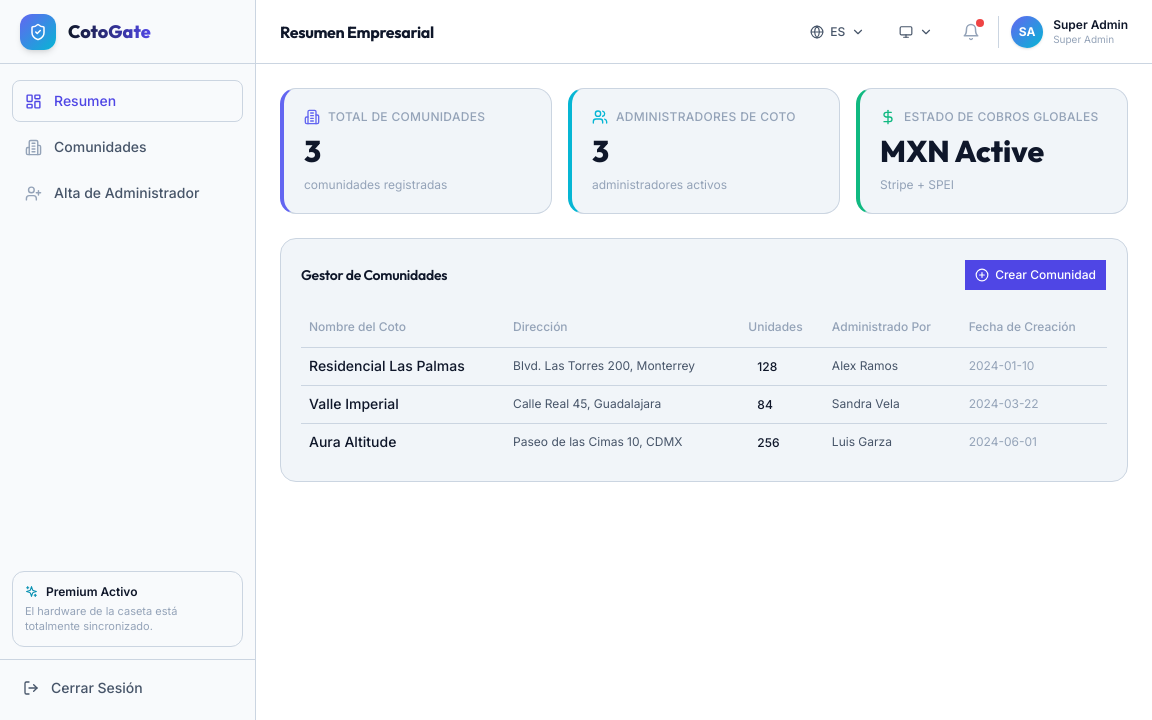
Scenario: SuperAdminDashboard › shows validation errors when submitting empty Create Community form
Expected: the heading "Resumen Empresarial" is shown, [280,20,434,44]
Click the button with id "nav-communities". click: coordinates (128, 147)
box: [12,126,243,168]
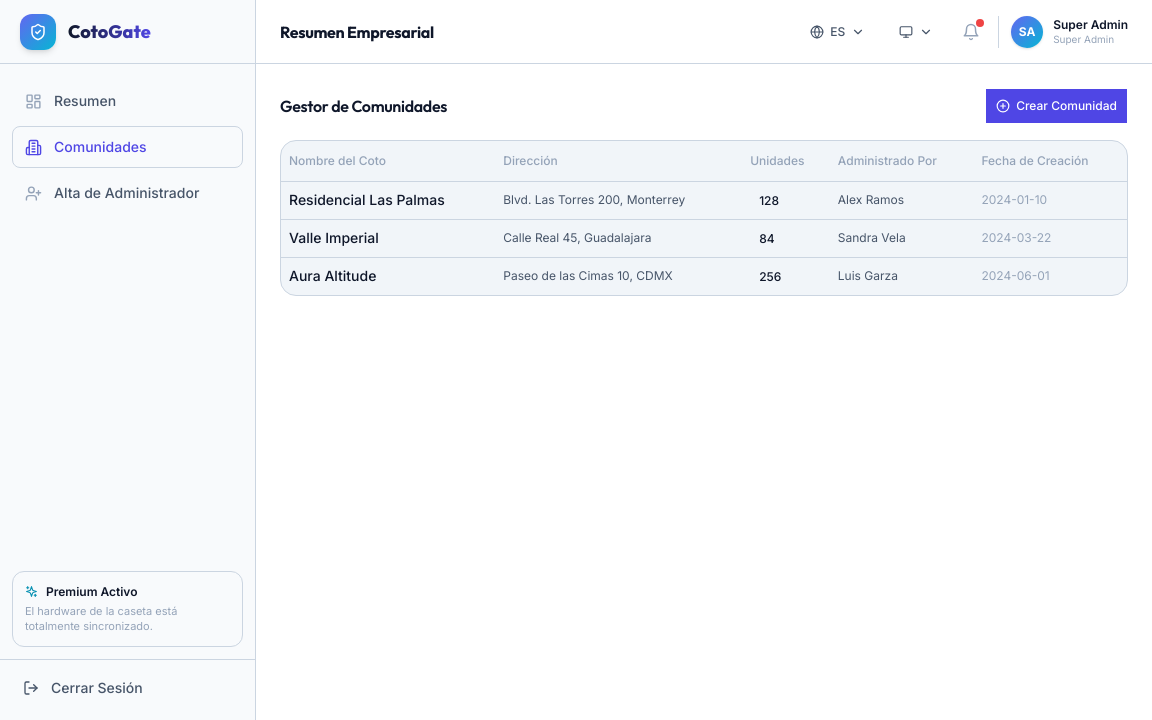
Expected: the text "Residencial Las Palmas" is shown, [281,181,495,219]
Click the button with id "btn-create-community". click: coordinates (1057, 106)
box: [985,88,1128,124]
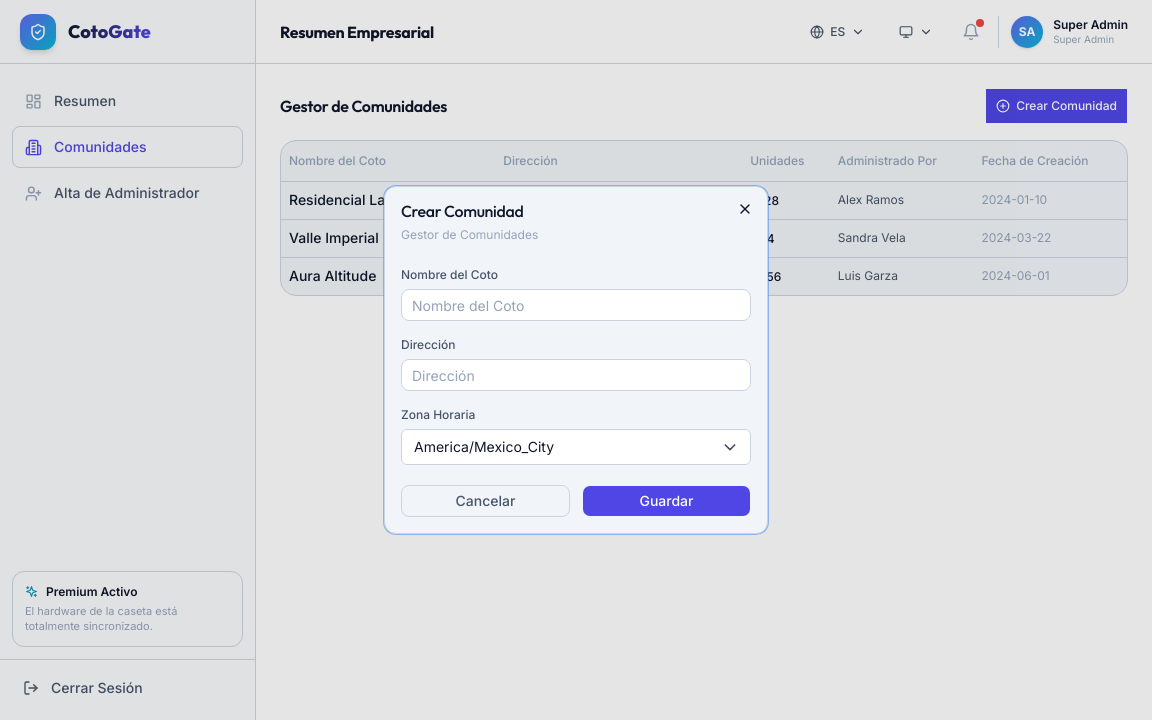
Expected: the field labelled "Nombre del Coto" is shown, [401,289,751,321]
Click the button "Guardar". click: coordinates (666, 501)
box: [582,485,751,517]
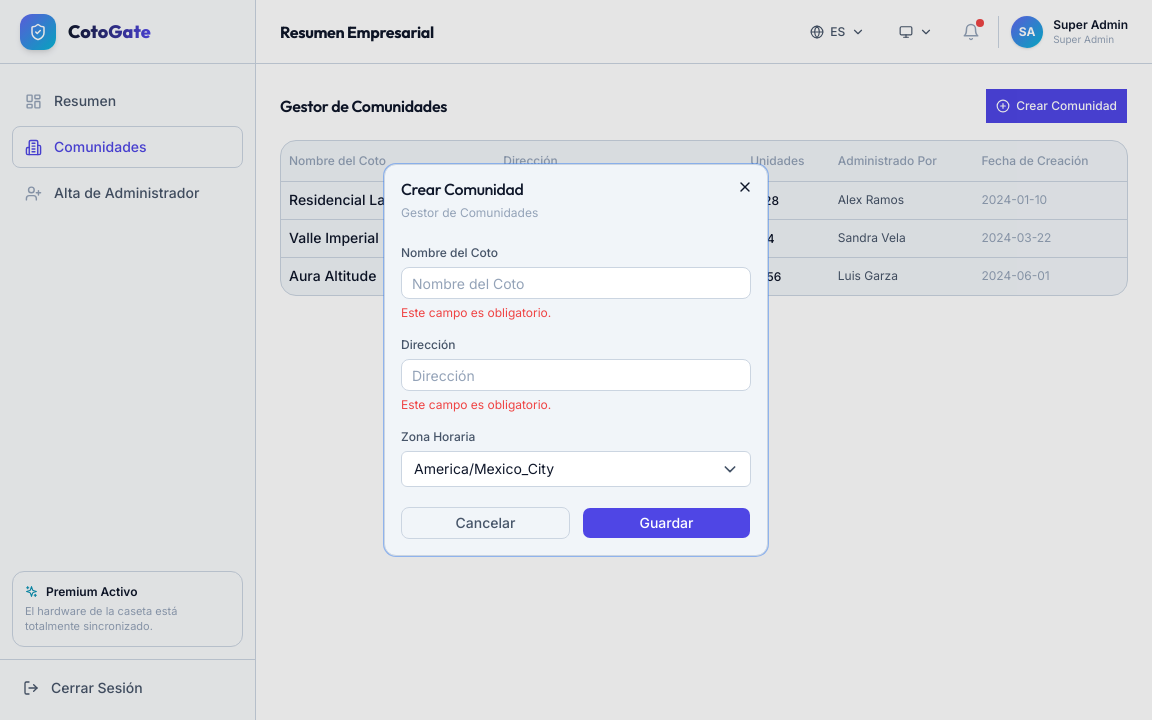
Expected: the 1st text "Este campo es obligatorio." is shown, [401,305,551,320]
